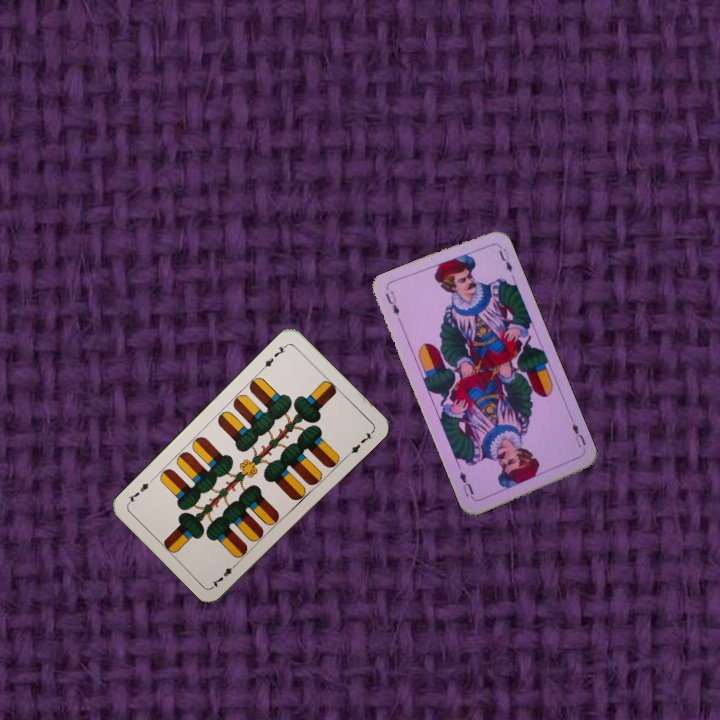E7: (257, 340, 290, 372), (208, 558, 241, 590)
EU: (568, 420, 588, 454), (381, 287, 402, 318)
